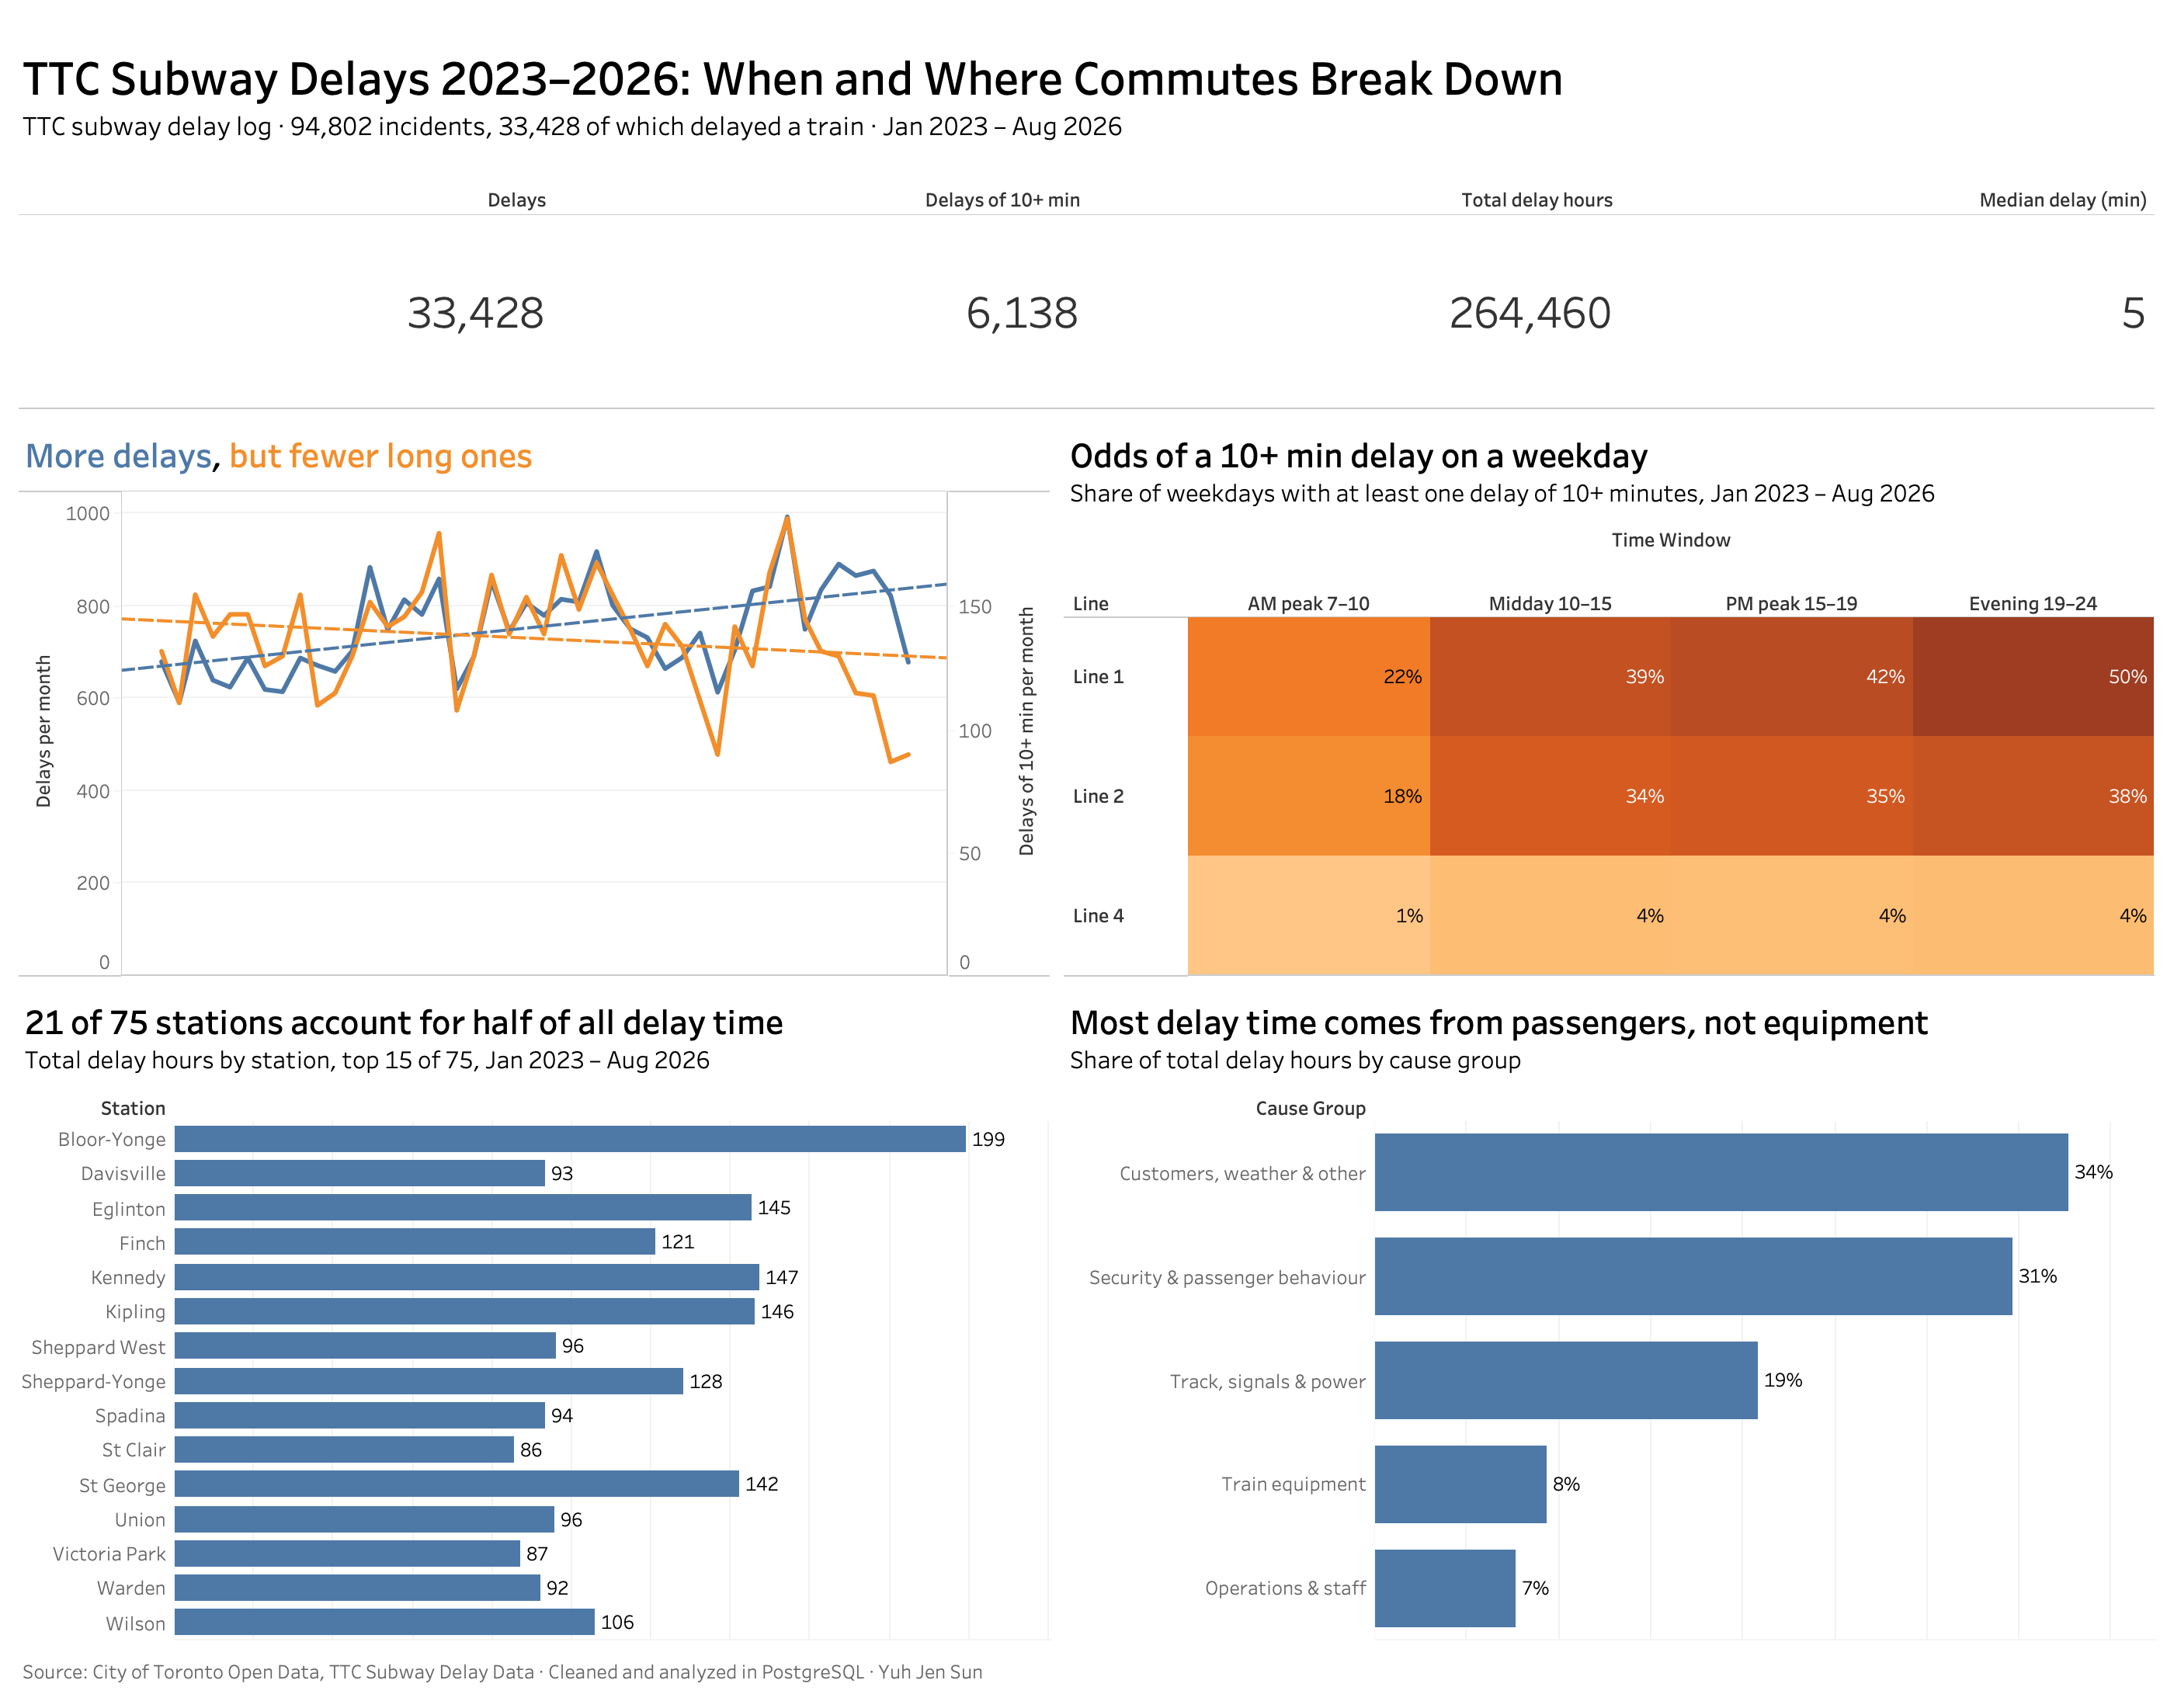

The page's visual inventory and layout, read from the dashboard file:
{"tool":"tableau","page":{"name":"Dashboard 1","canvas":[1400,1100],"ordinal":0},"visuals":[{"type":"text","box":[8,8,1384,106.3]},{"type":"worksheet","title":"KPI","mark":"Automatic","box":[8,114.3,1384,153.6]},{"type":"worksheet","title":"Monthly Trend","mark":"Automatic","rows":["Calculation_4125975273304064","Calculation_4125975273373698"],"cols":["delay_date"],"box":[8,267.9,672.5,365.1]},{"type":"worksheet","title":"Commuter Risk","mark":"Square","rows":["line"],"cols":["time_window"],"box":[680.5,267.9,711.5,365.1]},{"type":"worksheet","title":"Top Stations","mark":"Automatic","rows":["station"],"cols":["Calculation_4125975277662212"],"box":[8,633,673,427]},{"type":"worksheet","title":"Causes","mark":"Automatic","rows":["cause_group"],"cols":["Calculation_4125975277662212"],"box":[681,633,711,427]},{"type":"text","box":[8,1060,1384,32]}]}

Visuals, with their boxes in screenshot pixels (x1, y1, x2, y2), scaled from the page's 1400x1100 canvas onto the 2174x1708 screenshot:
text: [x1=12, y1=12, x2=2162, y2=178]
"KPI" worksheet: [x1=12, y1=178, x2=2162, y2=416]
"Monthly Trend" worksheet: [x1=12, y1=416, x2=1057, y2=983]
"Commuter Risk" worksheet (Square marks): [x1=1057, y1=416, x2=2162, y2=983]
"Top Stations" worksheet: [x1=12, y1=983, x2=1057, y2=1646]
"Causes" worksheet: [x1=1057, y1=983, x2=2162, y2=1646]
text: [x1=12, y1=1646, x2=2162, y2=1696]
